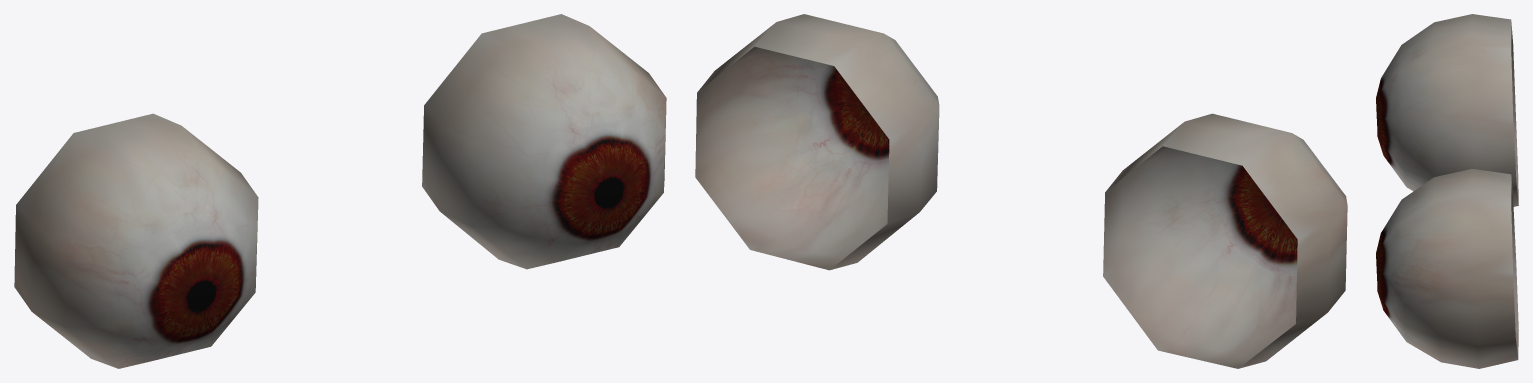
The model's file is eyes.glb.
3 renders of one model, left to right at view 1: azimuth 30°, elevation 25°; view 2: azimuth 150°, elevation 25°; view 3: azimuth 270°, elevation 25°, orthographic. The views are drawn at different scales.
Parts seen in each view (by area): view 1: Human.low-poly; view 2: Human.low-poly; view 3: Human.low-poly.
Boxes of the visible parts, <box> form: Human.low-poly: <box>14,14,666,368</box>; Human.low-poly: <box>695,14,1347,368</box>; Human.low-poly: <box>1376,14,1518,368</box>.
Bounding box in the file's own units: 0.087 × 0.0292 × 0.0225.
1 material, 1 textured.
